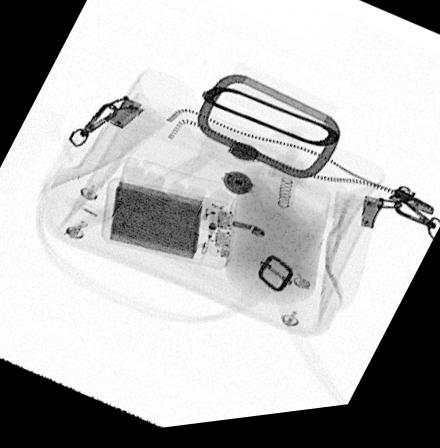Powerbank: (100, 178, 237, 277)
